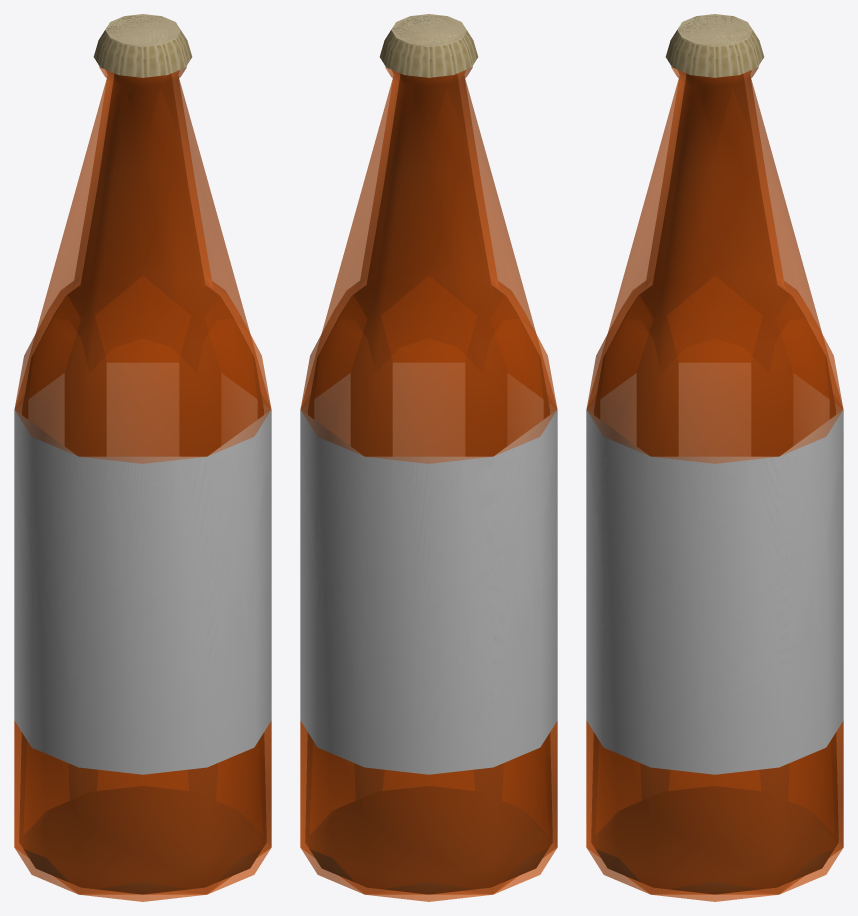
Rendered from BeerBottle 1.fbx.
3 renders of one model, left to right at view 1: azimuth 30°, elevation 25°; view 2: azimuth 150°, elevation 25°; view 3: azimuth 270°, elevation 25°, orthographic.
Parts seen in each view (by area): view 1: Circle.019, Circle.027, Circle.020; view 2: Circle.019, Circle.027, Circle.020; view 3: Circle.019, Circle.027, Circle.020.
Boxes of the visible parts, <box> form: Circle.019: <box>14,14,271,901</box>; Circle.027: <box>14,16,271,894</box>; Circle.020: <box>19,74,266,894</box>; Circle.019: <box>300,14,557,901</box>; Circle.027: <box>300,16,557,894</box>; Circle.020: <box>305,74,552,894</box>; Circle.019: <box>586,14,843,901</box>; Circle.027: <box>586,16,843,894</box>; Circle.020: <box>591,74,838,894</box>.
Size of the model in its own units: 7.85 by 27.54 by 7.85.
